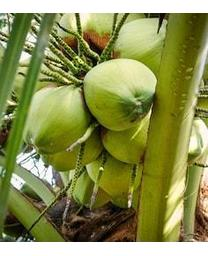coconut: (80, 58, 160, 133), (19, 83, 87, 151), (56, 13, 149, 60), (111, 17, 170, 71), (84, 154, 142, 194), (41, 143, 104, 173), (101, 126, 149, 163), (67, 174, 114, 208)
